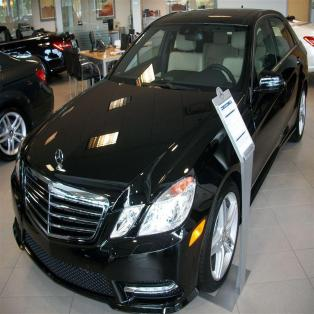Auto: (11, 7, 309, 313)
